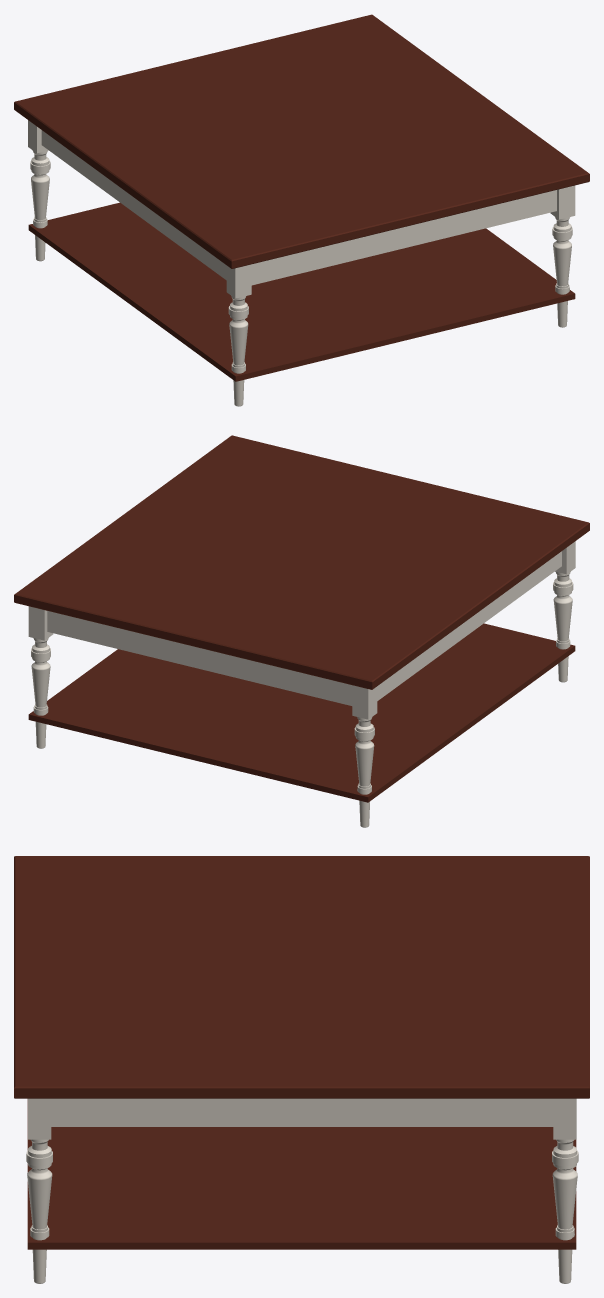
Rendered from art room table.fbx.
3 views of the same model, one above another, from view 1: azimuth 30°, elevation 25°; view 2: azimuth 150°, elevation 25°; view 3: azimuth 270°, elevation 25° (orthographic). The views are drawn at different scales.
Visible parts, largest first — view 1: Table1; view 2: Table1; view 3: Table1.
Part boxes in pixels (left/top/right/bottom): Table1: left=14, top=14, right=589, bottom=406; Table1: left=14, top=435, right=589, bottom=827; Table1: left=14, top=856, right=589, bottom=1283.
Size of the model in its own units: 922 by 383 by 969.
